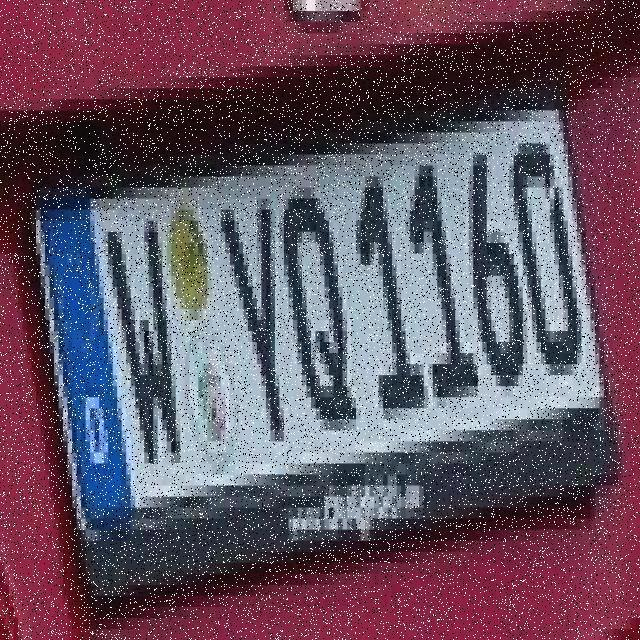LicensePlate: (33, 116, 630, 580)
